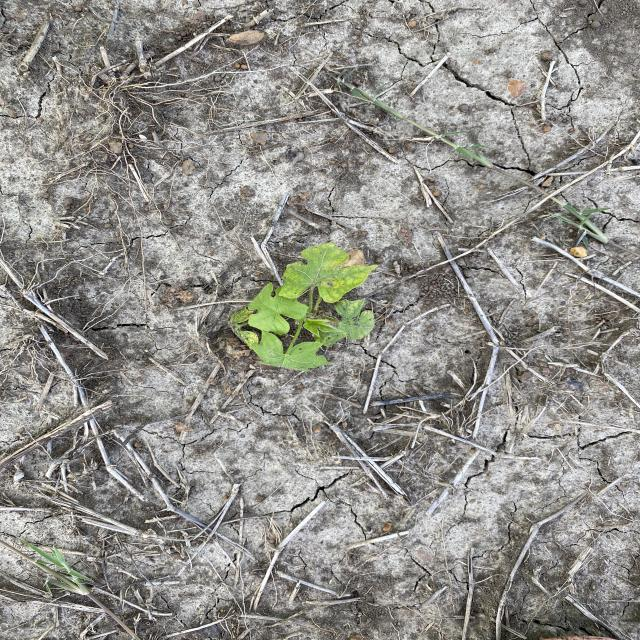MorningGlory: (227, 242, 382, 374)
